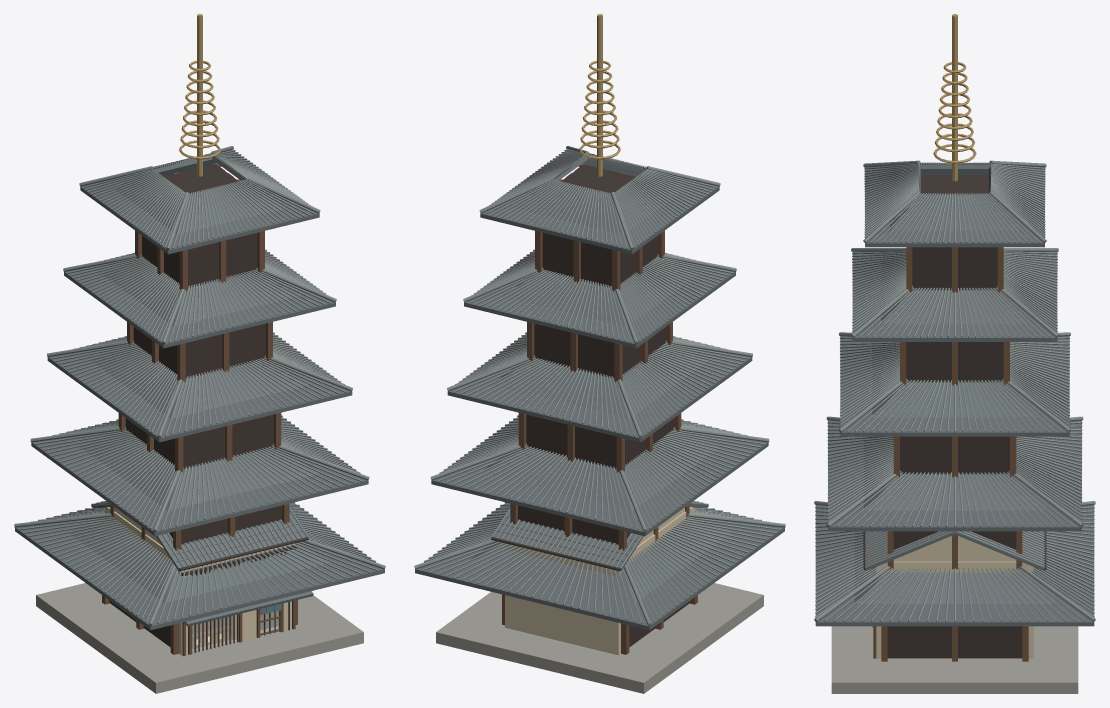
File: architecture.glb
3 renders of one model, left to right at view 1: azimuth 30°, elevation 25°; view 2: azimuth 150°, elevation 25°; view 3: azimuth 270°, elevation 25°, orthographic. The views are drawn at different scales.
Visible parts, largest first — view 1: YasakaPagoda_Kawara, YasakaPagoda_Tile_ribs, YasakaPagoda_Foundation, YasakaPagoda_Dark_timber, YasakaPagoda_Cedar, Machiya0_Kawara, YasakaPagoda_Bronze, Machiya0_Tile_ribs, Machiya0_Warm_plaster, Machiya0_Cedar, Machiya0_Dark_timber, Machiya0_Glass (+1 smaller); view 2: YasakaPagoda_Kawara, YasakaPagoda_Tile_ribs, YasakaPagoda_Foundation, YasakaPagoda_Dark_timber, YasakaPagoda_Cedar, Machiya0_Warm_plaster, Machiya1_Warm_plaster, Machiya0_Kawara, YasakaPagoda_Bronze, Machiya0_Tile_ribs; view 3: YasakaPagoda_Tile_ribs, YasakaPagoda_Kawara, YasakaPagoda_Dark_timber, YasakaPagoda_Foundation, YasakaPagoda_Cedar, Machiya0_Warm_plaster, YasakaPagoda_Bronze, Machiya0_Tile_ribs, Machiya0_Kawara.
Boxes of the visible parts, x1,y1,x2,y2 form: YasakaPagoda_Kawara: (15, 150, 384, 630); YasakaPagoda_Tile_ribs: (14, 146, 385, 626); YasakaPagoda_Foundation: (36, 583, 363, 693); YasakaPagoda_Dark_timber: (109, 164, 281, 647); YasakaPagoda_Cedar: (102, 163, 297, 654); Machiya0_Kawara: (92, 504, 313, 626); YasakaPagoda_Bronze: (179, 14, 220, 176); Machiya0_Tile_ribs: (91, 501, 313, 625); Machiya0_Warm_plaster: (105, 507, 294, 655); Machiya0_Cedar: (182, 600, 295, 656); Machiya0_Dark_timber: (91, 505, 308, 654); Machiya0_Glass: (192, 615, 236, 651); YasakaPagoda_Kawara: (415, 150, 784, 630); YasakaPagoda_Tile_ribs: (414, 146, 785, 626); YasakaPagoda_Foundation: (436, 583, 763, 693); YasakaPagoda_Dark_timber: (518, 164, 690, 647); YasakaPagoda_Cedar: (502, 163, 697, 654); Machiya0_Warm_plaster: (505, 507, 694, 654); Machiya1_Warm_plaster: (511, 547, 619, 655); Machiya0_Kawara: (493, 504, 707, 570); YasakaPagoda_Bronze: (579, 14, 620, 176); Machiya0_Tile_ribs: (491, 501, 708, 568); YasakaPagoda_Tile_ribs: (814, 160, 1095, 622); YasakaPagoda_Kawara: (815, 164, 1094, 626); YasakaPagoda_Dark_timber: (887, 175, 1022, 658); YasakaPagoda_Foundation: (831, 626, 1078, 693); YasakaPagoda_Cedar: (881, 247, 1028, 661); Machiya0_Warm_plaster: (876, 536, 1033, 658); YasakaPagoda_Bronze: (933, 14, 976, 181); Machiya0_Tile_ribs: (865, 531, 1044, 568); Machiya0_Kawara: (865, 531, 1044, 570).
Bounding box in the file's own units: 12.54 × 31.06 × 12.54.
